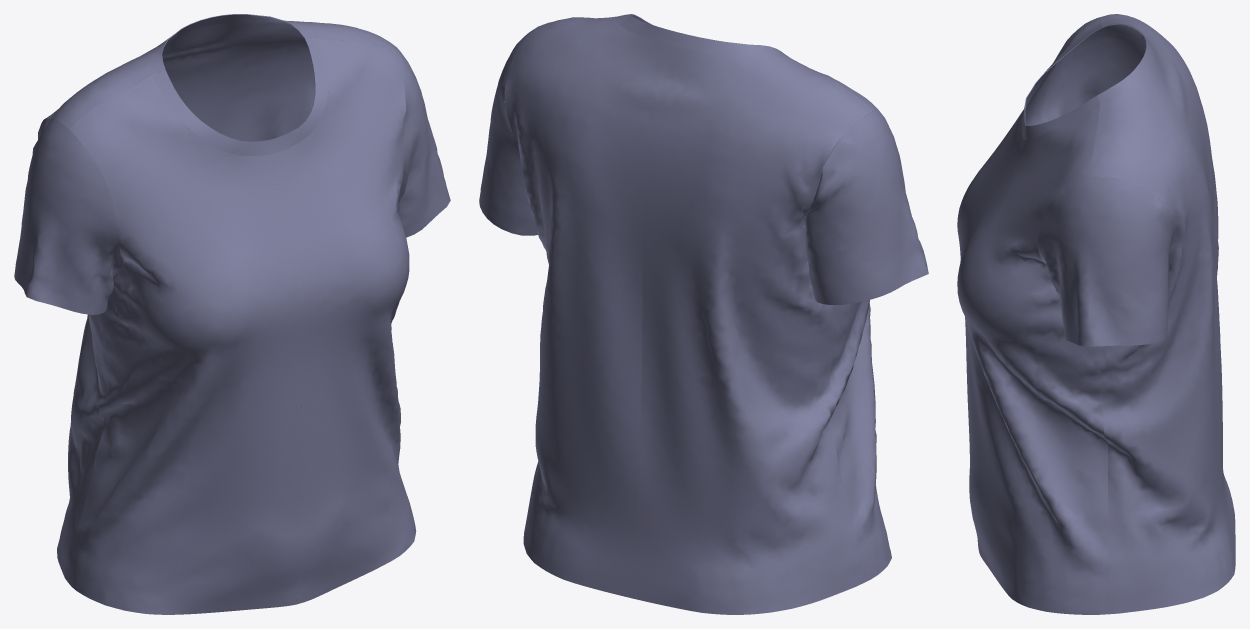
3 renders of one model, left to right at view 1: azimuth 30°, elevation 25°; view 2: azimuth 150°, elevation 25°; view 3: azimuth 270°, elevation 25°, orthographic. The views are drawn at different scales.
Parts seen in each view (by area): view 1: Body_Front (×2), Body_Back (×2), Sleeves (×2), Ribbing (×2); view 2: Body_Back (×2), Sleeves (×2), Body_Front, Ribbing; view 3: Body_Front (×2), Body_Back (×2), Sleeves (×2), Ribbing (×2).
Boxes of the visible parts, x1,y1,x2,y2 form: Body_Front (×2): (68,37,416,614); Body_Back (×2): (44,20,401,581); Sleeves (×2): (14,48,450,314); Ribbing (×2): (148,14,327,155); Body_Back (×2): (504,16,872,614); Sleeves (×2): (479,39,928,304); Body_Front: (787,57,891,582); Ribbing: (616,14,785,56); Body_Front (×2): (957,17,1109,614); Body_Back (×2): (1089,14,1235,614); Sleeves (×2): (1038,24,1172,346); Ribbing (×2): (1021,23,1153,139).
Bounding box in the file's own units: 47.8 × 56.23 × 28.16.
